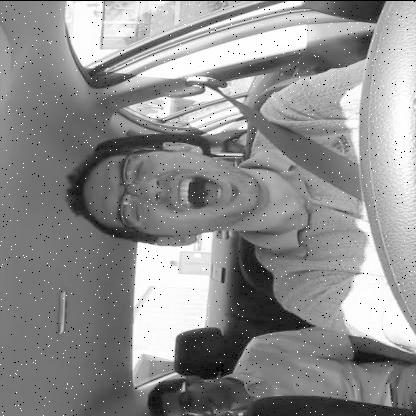seatbelt: (44, 70, 366, 262)
